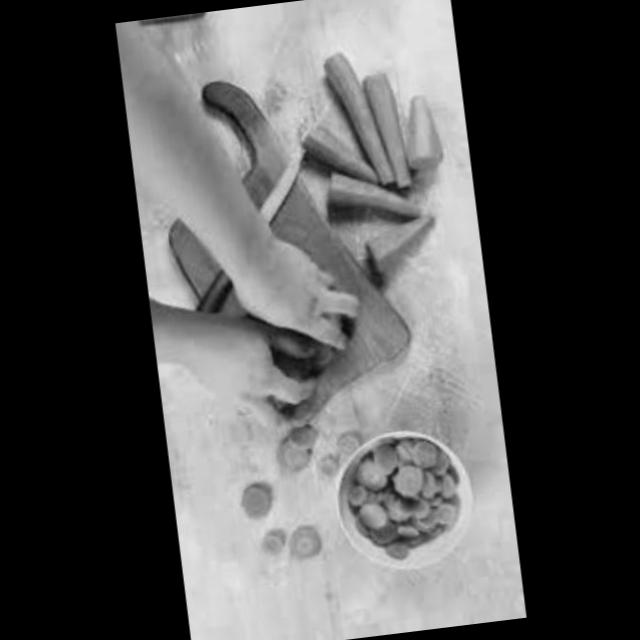ca rot: (334, 427, 478, 566), (329, 29, 402, 197), (320, 162, 429, 238), (356, 62, 416, 197), (294, 111, 379, 190), (359, 208, 446, 284), (269, 414, 339, 482), (394, 90, 446, 176), (322, 421, 374, 486), (284, 508, 329, 574), (236, 478, 280, 526), (259, 522, 287, 560)
